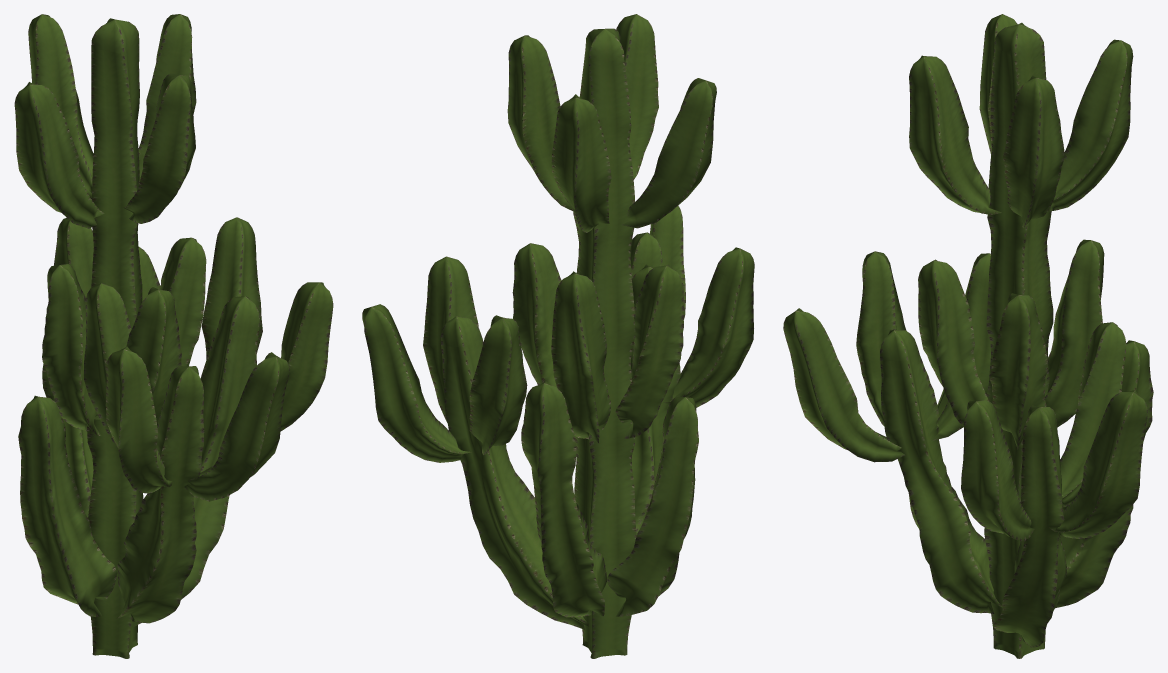
Rendered from runtime-jasminocereus-2.glb.
3 views of the same model, side by side, from view 1: azimuth 30°, elevation 25°; view 2: azimuth 150°, elevation 25°; view 3: azimuth 270°, elevation 25° (orthographic).
Parts seen in each view (by area): view 1: Euphorbia_candelabrum_HD; view 2: Euphorbia_candelabrum_HD; view 3: Euphorbia_candelabrum_HD.
Boxes of the visible parts, x1,y1,x2,y2 form: Euphorbia_candelabrum_HD: [14, 14, 333, 658]; Euphorbia_candelabrum_HD: [362, 14, 754, 658]; Euphorbia_candelabrum_HD: [783, 14, 1153, 658].
Size of the model in its own units: 0.4853 by 0.9735 by 0.5236.
Materials: 4 (4 with a texture image).
